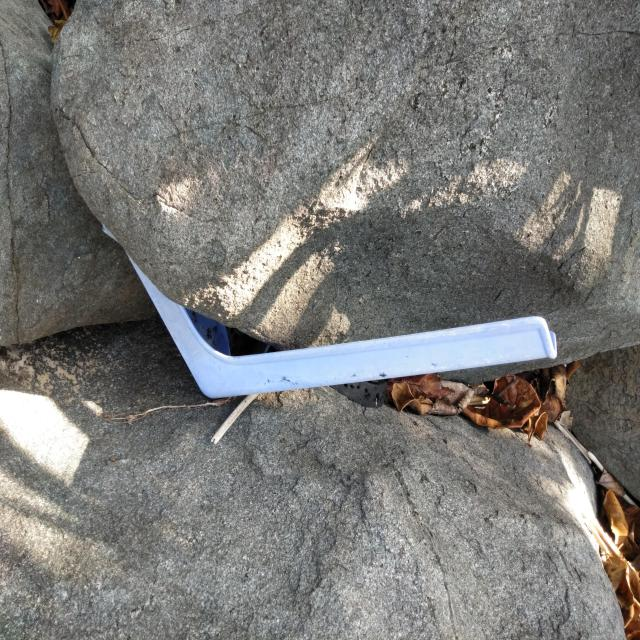litter: (128, 255, 558, 399)
